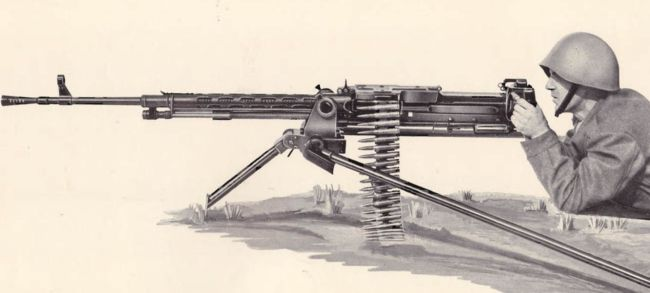rifle: (2, 64, 507, 154)
rifle in hand: (1, 65, 558, 204)
